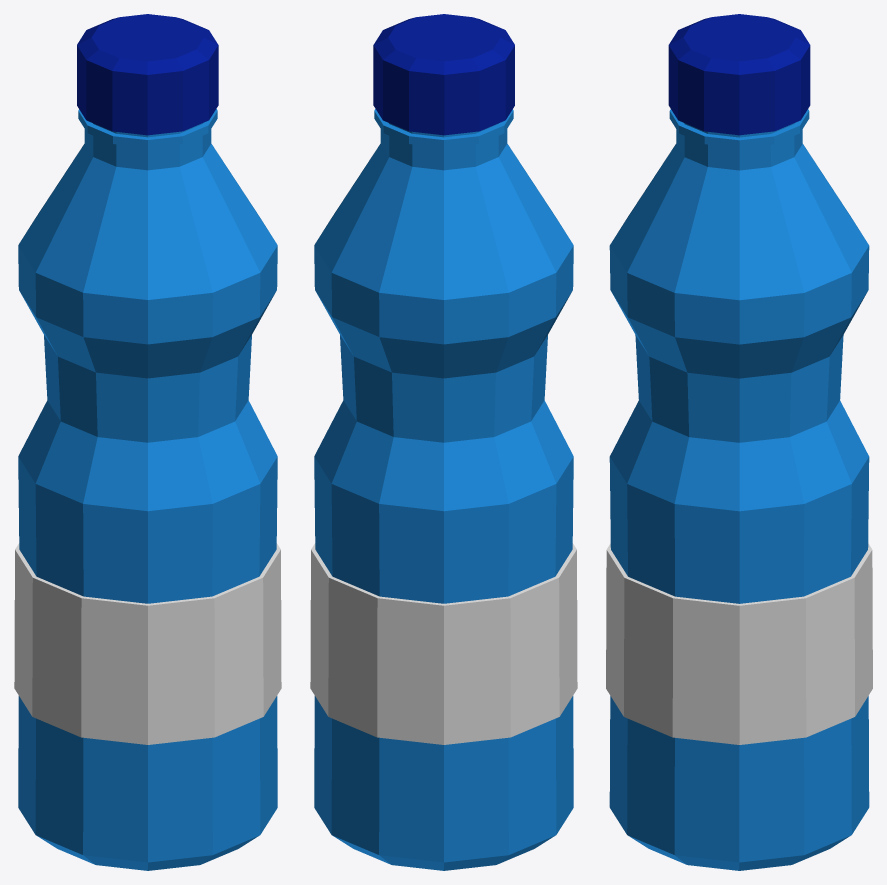
File: water bottle 2.fbx
3 views of the same model, side by side, from view 1: azimuth 30°, elevation 25°; view 2: azimuth 150°, elevation 25°; view 3: azimuth 270°, elevation 25° (orthographic).
Parts seen in each view (by area): view 1: Cylinder.002, Cylinder.003; view 2: Cylinder.002, Cylinder.003; view 3: Cylinder.002, Cylinder.003.
Boxes of the visible parts, x1=… form: Cylinder.002: x1=14, y1=109, x2=281, y2=870; Cylinder.003: x1=77, y1=14, x2=218, y2=135; Cylinder.002: x1=310, y1=109, x2=577, y2=870; Cylinder.003: x1=373, y1=14, x2=514, y2=135; Cylinder.002: x1=606, y1=109, x2=872, y2=870; Cylinder.003: x1=668, y1=14, x2=810, y2=135.
Bounding box in the file's own units: 273 × 889 × 273.
